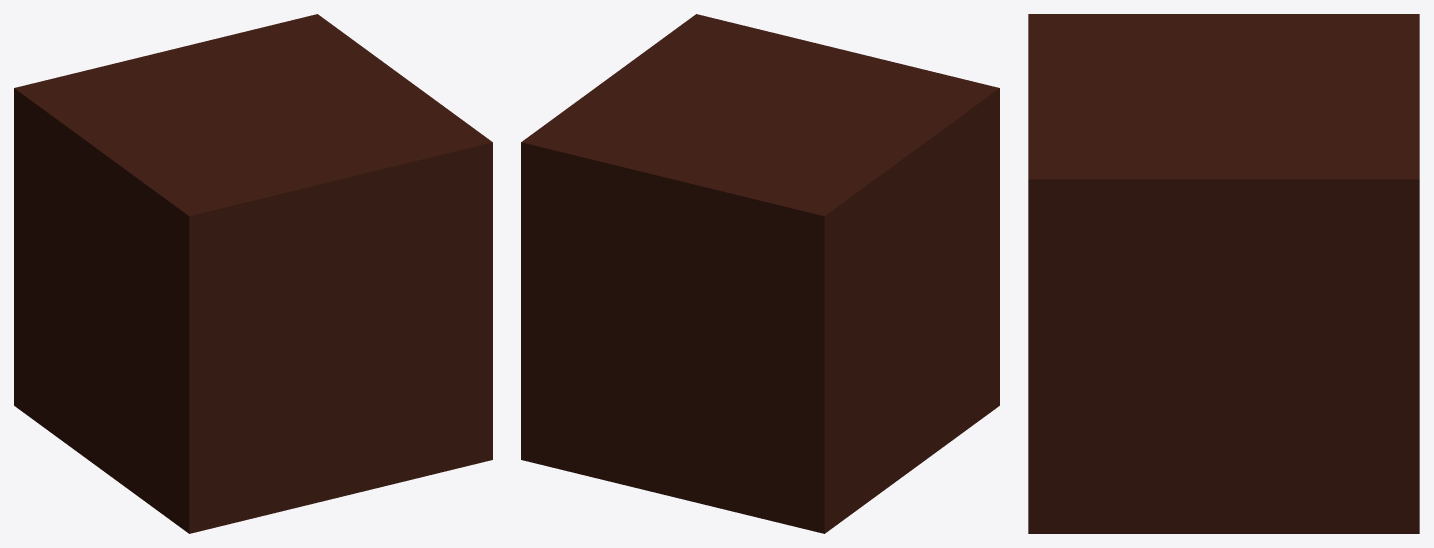
File: Block.fbx
3 views of the same model, side by side, from view 1: azimuth 30°, elevation 25°; view 2: azimuth 150°, elevation 25°; view 3: azimuth 270°, elevation 25° (orthographic). The views are drawn at different scales.
Parts seen in each view (by area): view 1: Bent; view 2: Bent; view 3: Bent.
Boxes of the visible parts, x1=… form: Bent: x1=14, y1=14, x2=492, y2=533; Bent: x1=521, y1=14, x2=999, y2=533; Bent: x1=1028, y1=14, x2=1419, y2=533.
Bounding box in the file's own units: 1 × 1 × 1.
